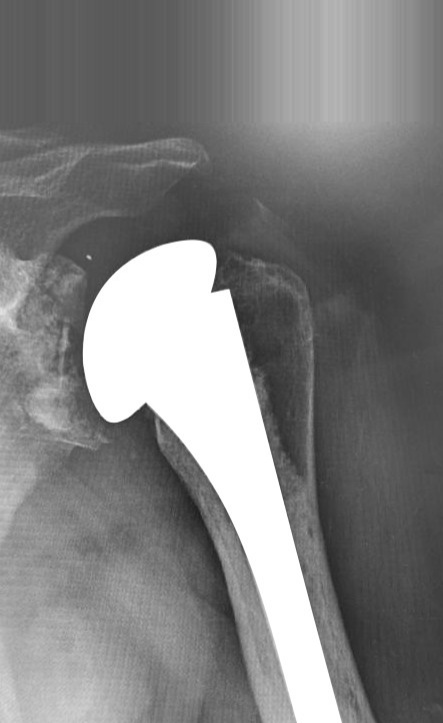Shoulder - Anotomyhead - Stryker: (62, 231, 240, 447)
Shoulder - Anotomytail - Stryker: (126, 271, 304, 554)
